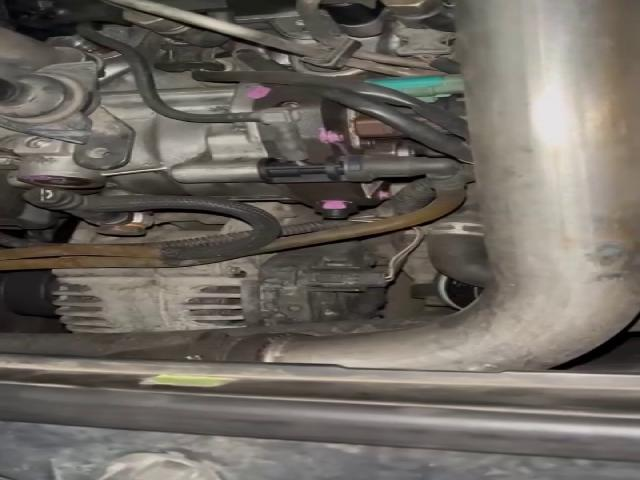alternator: (53, 276, 245, 333)
high_pressure_pump: (4, 82, 382, 219)
